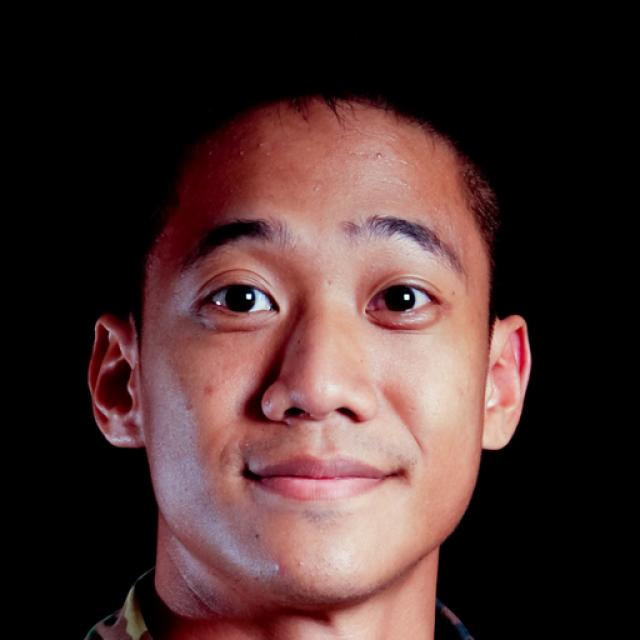Acne: (227, 144, 253, 161), (290, 553, 312, 573), (268, 559, 289, 578), (249, 135, 268, 153), (369, 150, 391, 164), (257, 396, 273, 410), (311, 181, 323, 194)
